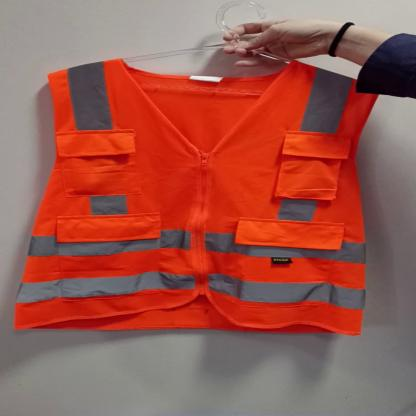colete: (13, 63, 370, 337)
